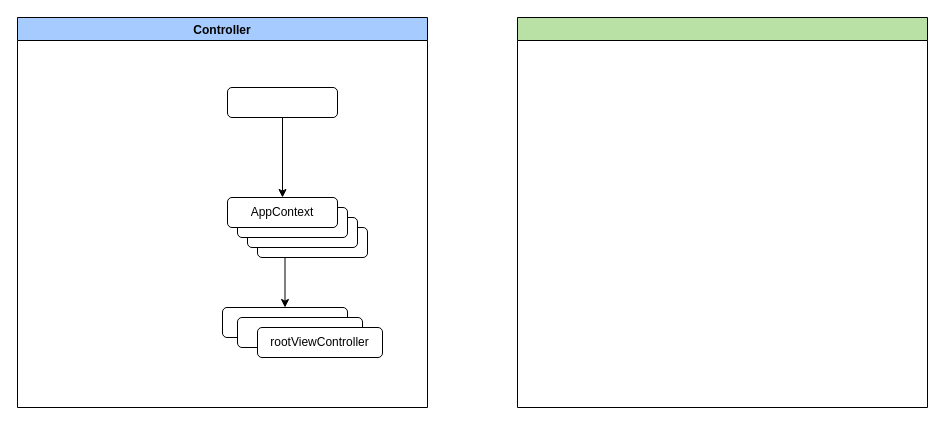
This 945x425 diagram has some shape labels left out. The shapes that lost their labels are listed below. From the top down, each one's centre as x and y in pixels, then its label:
the point at 282,102: AppDelegate
the point at 722,212: View
